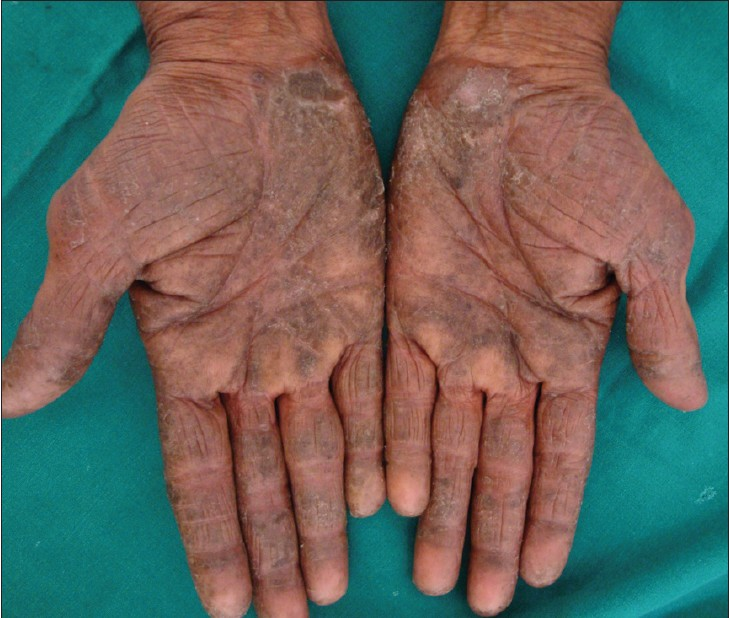Eczema: (225, 37, 567, 413)
